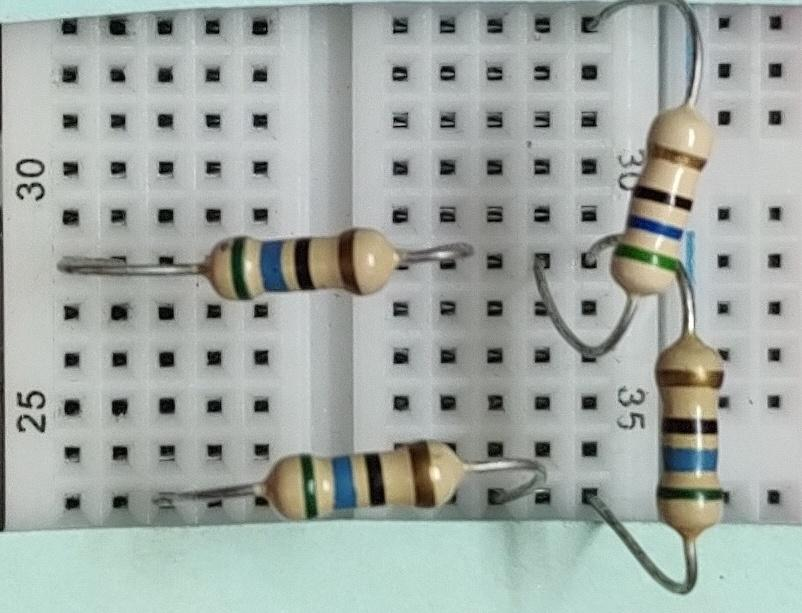resistor: (610, 95, 718, 297), (648, 323, 732, 552), (257, 433, 463, 524), (189, 220, 404, 307)
